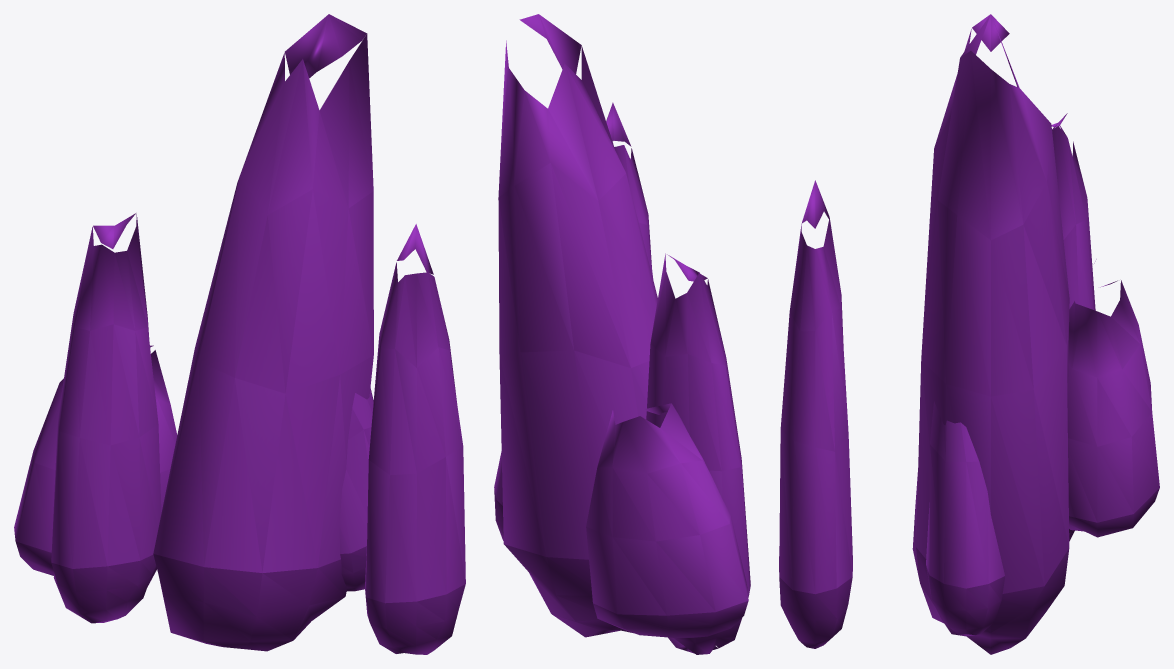
The model's file is giant_fungus_v2.glb.
The picture shows the model from 3 angles, left to right: view 1: azimuth 30°, elevation 25°; view 2: azimuth 150°, elevation 25°; view 3: azimuth 270°, elevation 25°; orthographic projection. The views are drawn at different scales.
Bounding box in the file's own units: 0.5424 × 1 × 0.5178.
